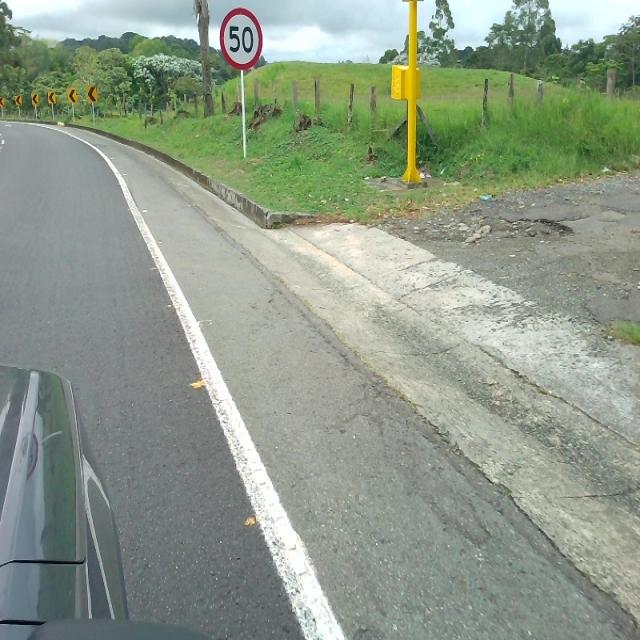DITCH: (2, 34, 638, 639), (3, 118, 638, 638)
